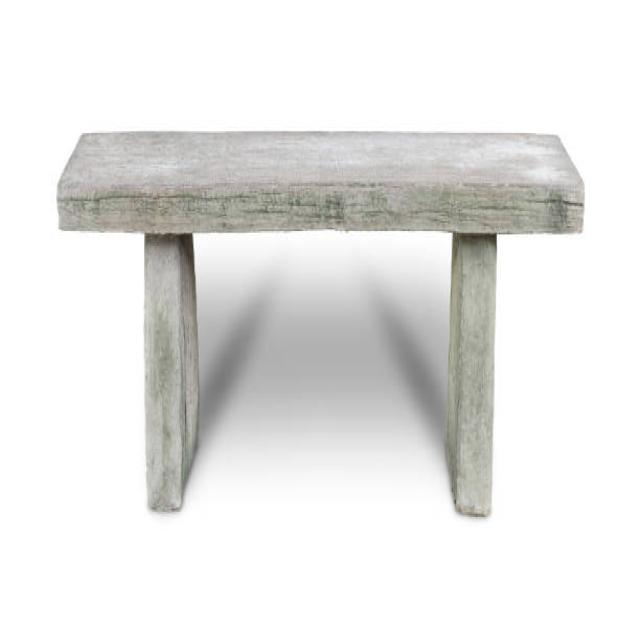Metamorphic: (60, 100, 592, 548)
